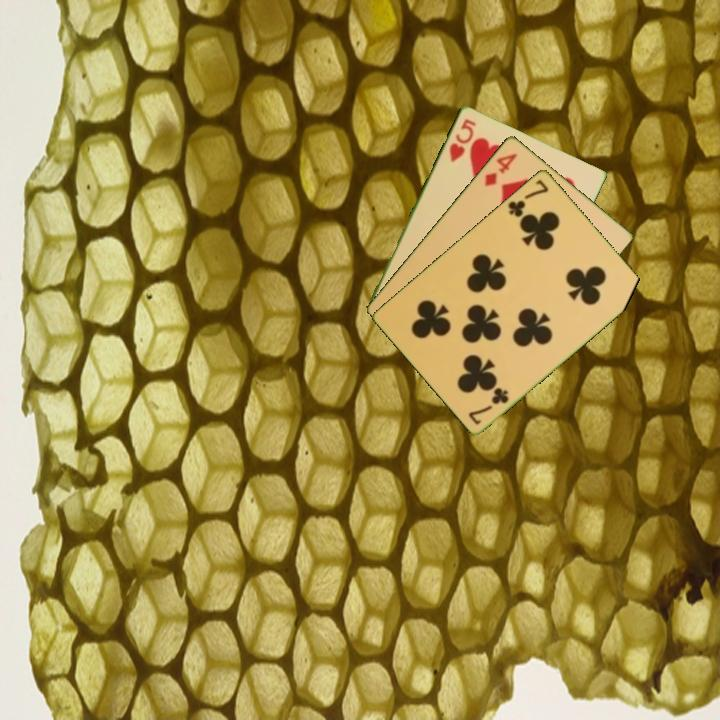4d: (481, 149, 520, 189)
5h: (446, 115, 479, 165)
7c: (504, 175, 552, 220), (465, 383, 512, 427)
